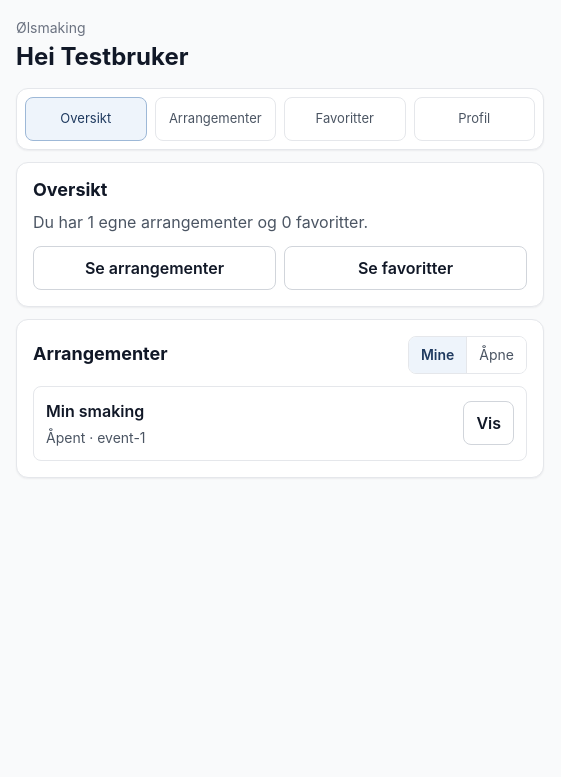
Test case: App core flows › joins an event and loads workspace
Step 1. Click the button "Arrangementer" → (215, 119), box x1=154 y1=97 x2=276 y2=141
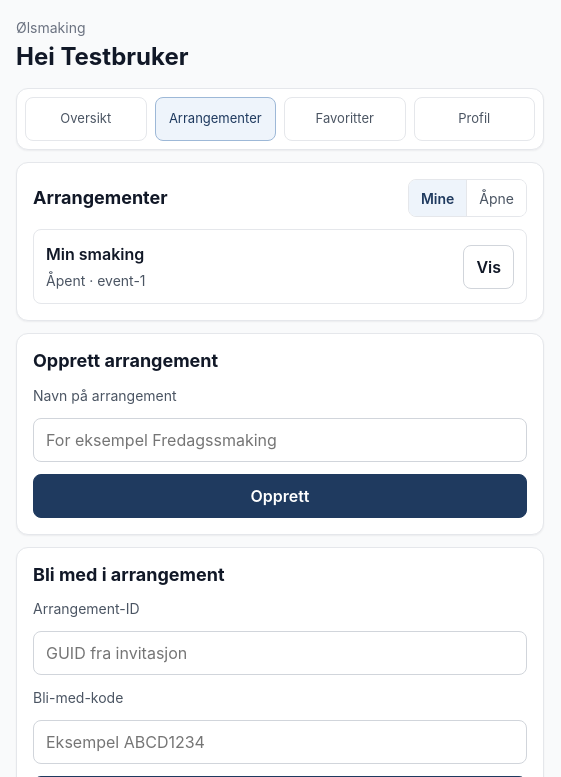
Step 2. Type "event-1" into the field labelled "Arrangement-ID" → (280, 653), box x1=33 y1=631 x2=527 y2=675
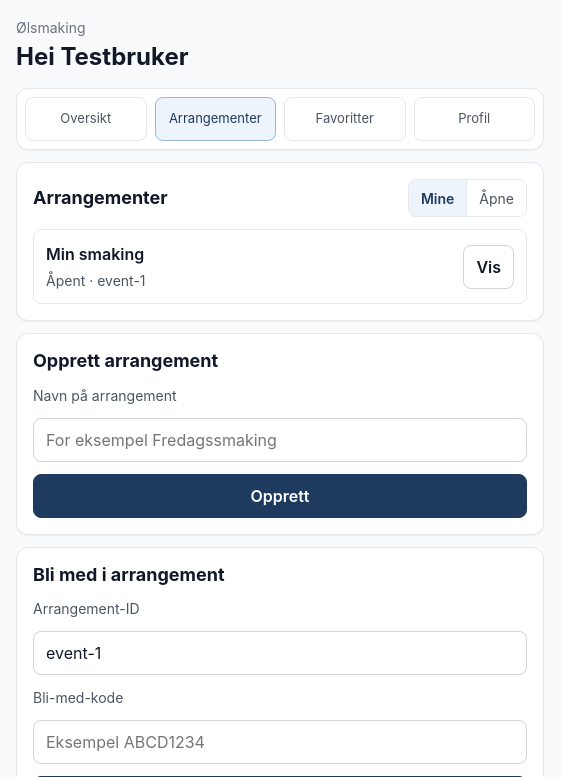
Step 3. Type "ABCD1234" into the field labelled "Bli-med-kode" → (280, 742), box x1=33 y1=720 x2=527 y2=764
(page scrolled)
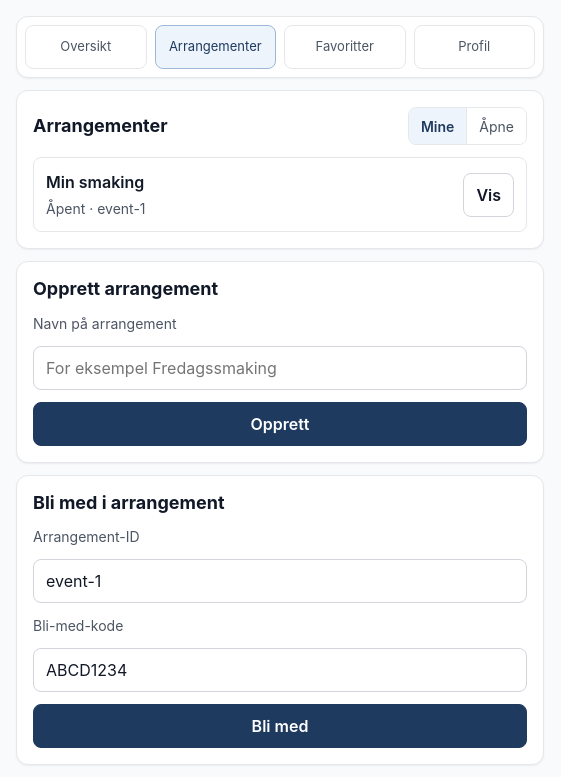
Step 4. Click the button "Bli med" → (280, 726), box x1=33 y1=704 x2=527 y2=748
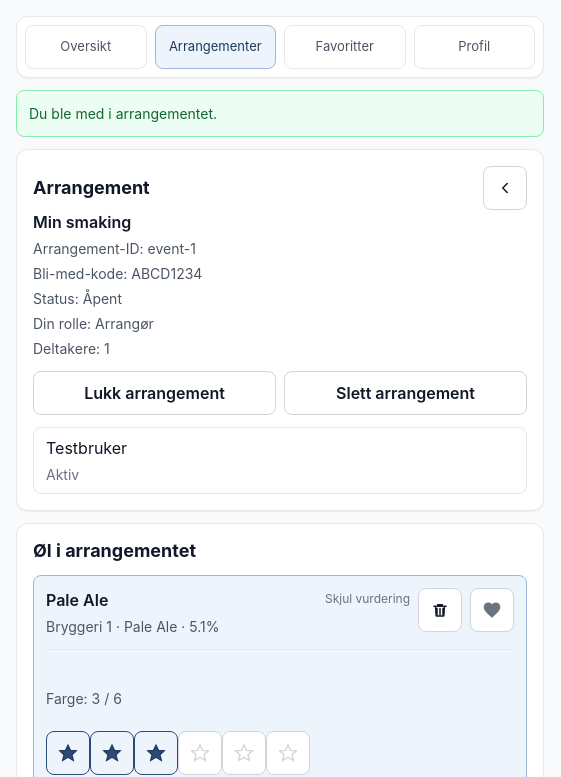
Expected: the text "Du ble med i arrangementet." is shown, x1=16 y1=90 x2=544 y2=137
Expected: the text "Bli-med-kode: ABCD1234" is shown, x1=33 y1=265 x2=202 y2=282
